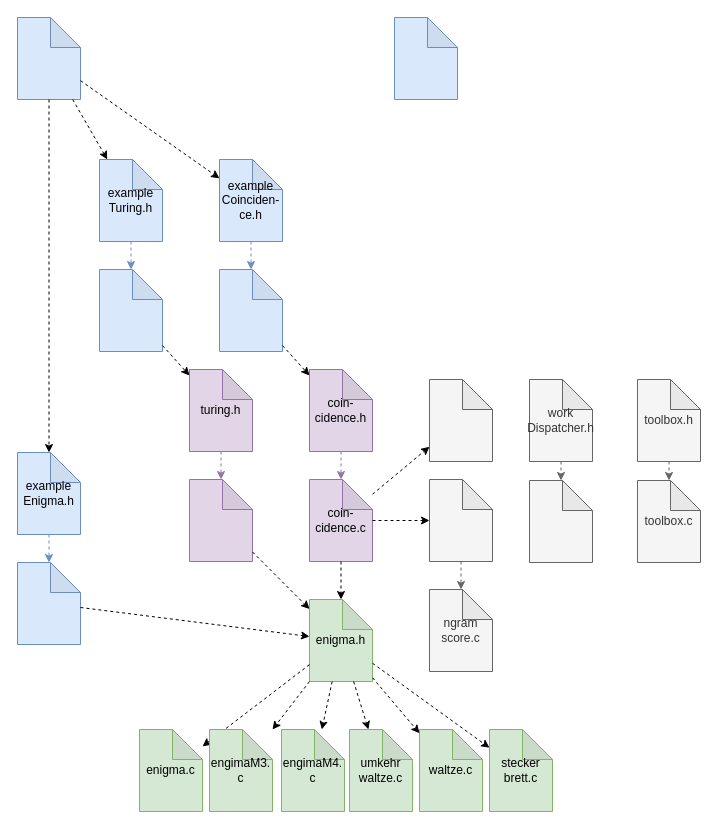
This 718x829 diagram has some shape labels left out. Each missing label, with the box of its shape:
example Coinciden- ce.h: (218, 268, 282, 352)
example Enigma.c: (16, 562, 80, 644)
example Turing.c: (98, 268, 162, 352)
main.c: (16, 16, 80, 100)
ngram score.h: (428, 478, 492, 562)
ngrams.h: (428, 378, 492, 462)
test.c: (394, 16, 458, 100)
turing.c: (188, 478, 252, 562)
work Dispatcher.c: (528, 480, 592, 562)
